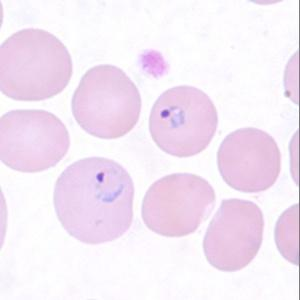Infected: (55, 156, 133, 243), (148, 84, 219, 156)
Uninfected: (0, 29, 72, 103), (70, 64, 138, 139), (139, 173, 216, 237), (202, 200, 265, 271), (0, 109, 69, 173), (218, 127, 281, 192)
